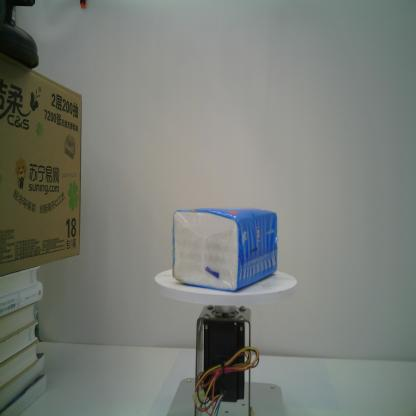Tissue: (171, 206, 278, 293)
